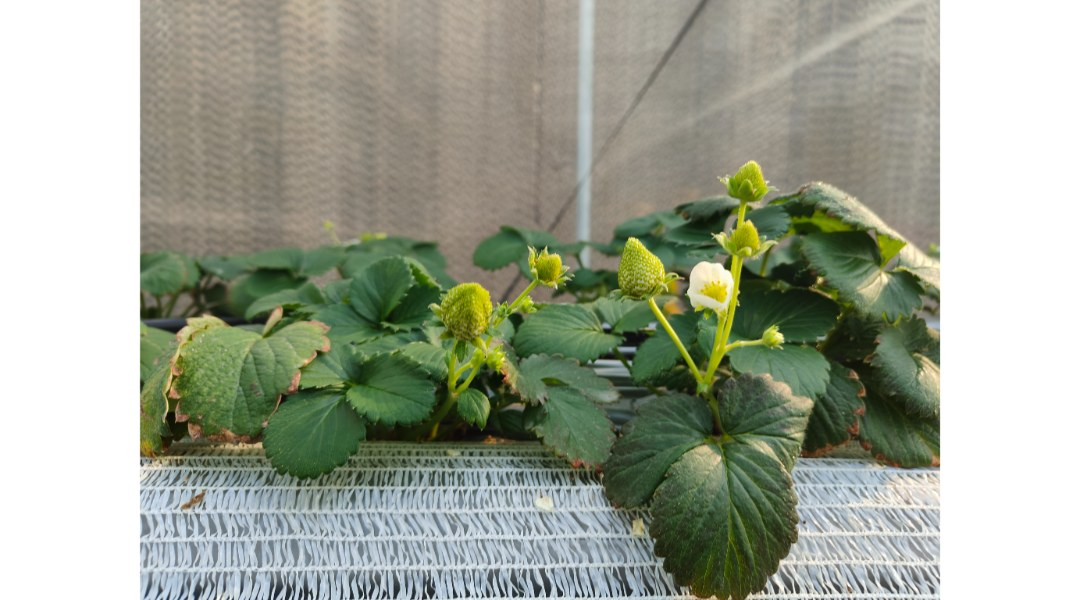berry: (612, 229, 673, 307), (437, 274, 490, 339), (699, 218, 780, 256), (719, 155, 772, 211), (523, 240, 579, 290), (754, 323, 800, 354)
flower: (689, 261, 729, 319)
strain: (663, 317, 702, 377), (728, 258, 744, 343), (506, 282, 535, 319), (447, 340, 461, 399)
